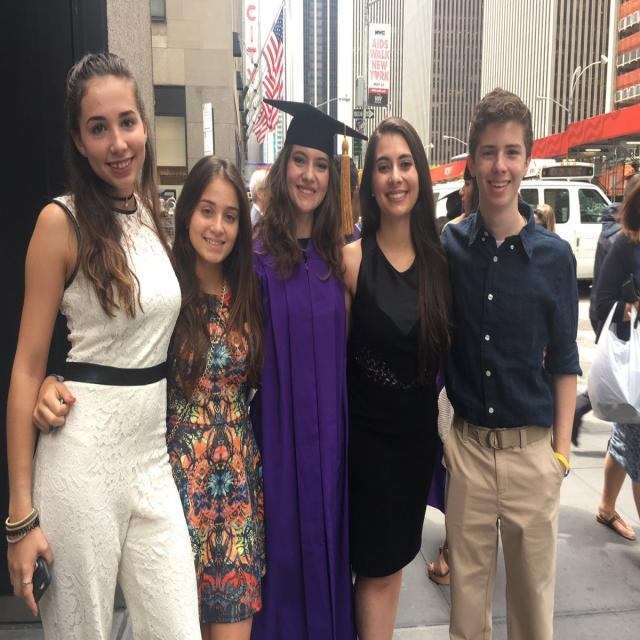body: (0, 46, 203, 640), (29, 150, 270, 640), (435, 87, 585, 640), (247, 98, 369, 636), (340, 114, 457, 640), (569, 168, 640, 545), (428, 472, 454, 590), (439, 153, 478, 230), (331, 152, 361, 243), (247, 172, 276, 234), (532, 193, 552, 234)
